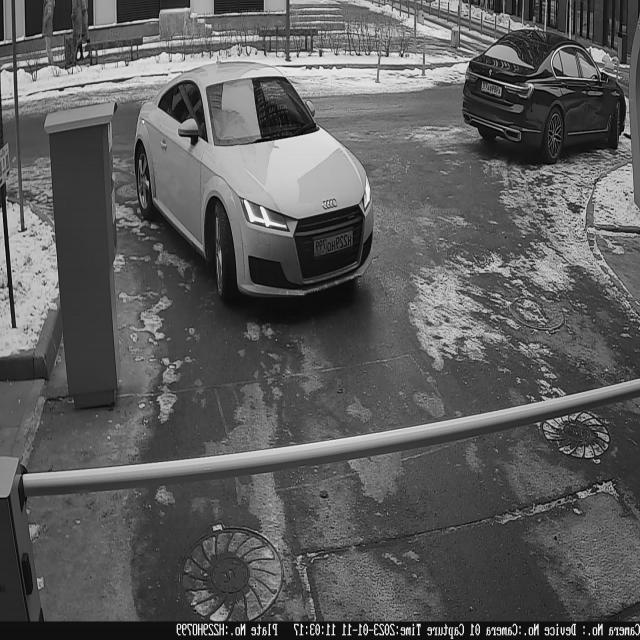car-plate-numbers: (314, 226, 356, 262)
